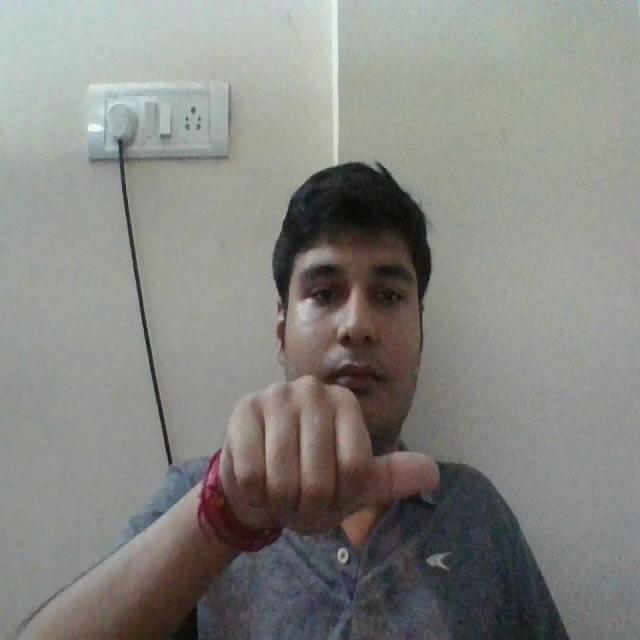Yes: (209, 363, 456, 546)
